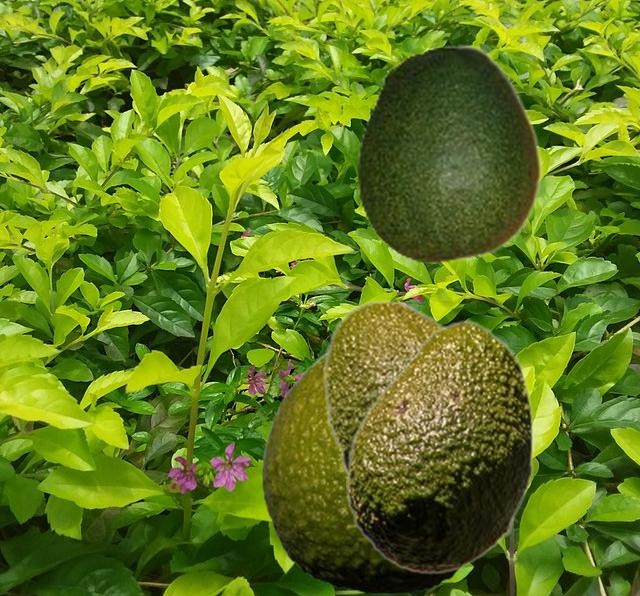avocado: (261, 350, 462, 593), (346, 320, 532, 574), (356, 44, 541, 262), (322, 299, 447, 473)
